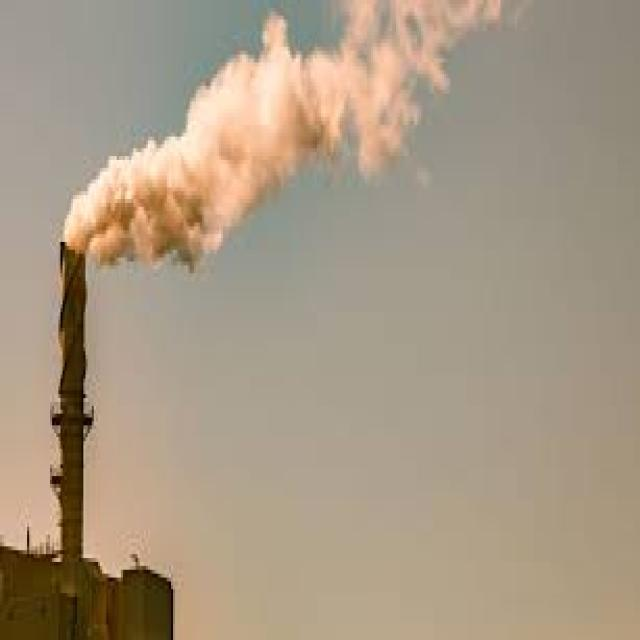Smoke: (64, 0, 502, 278)
